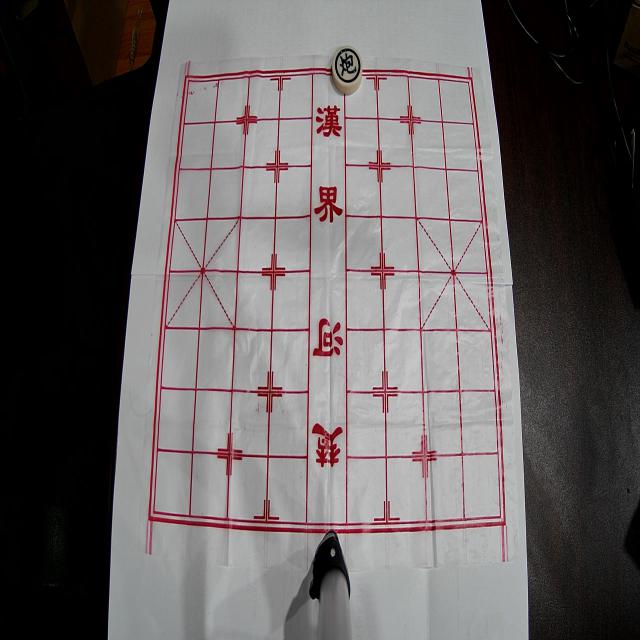black-cannon: (332, 46, 362, 94)
